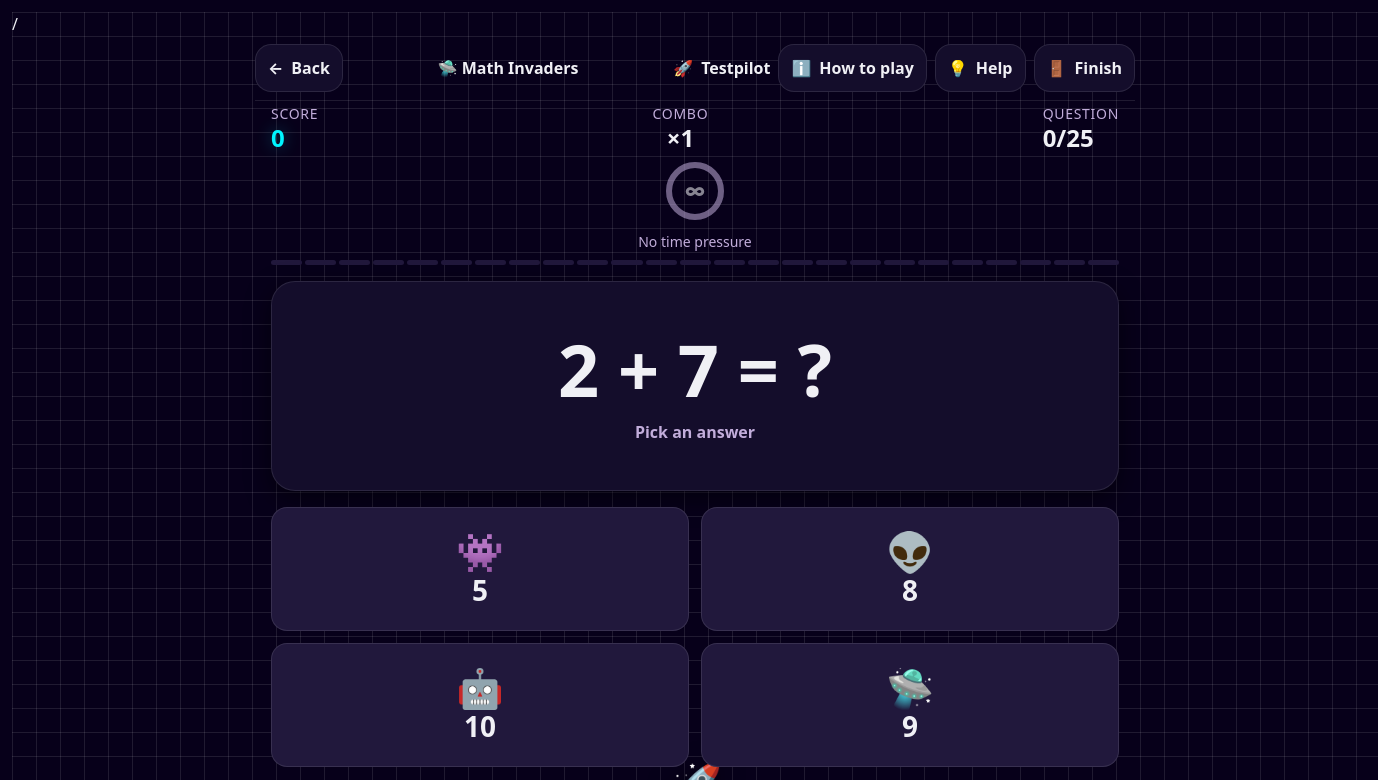
Test: GamePage › scores a right answer, advances after feedback, and grows the combo
Click the button "🛸 9".
click(910, 705)  # box [701,643,1119,767]
Wait 650 ms
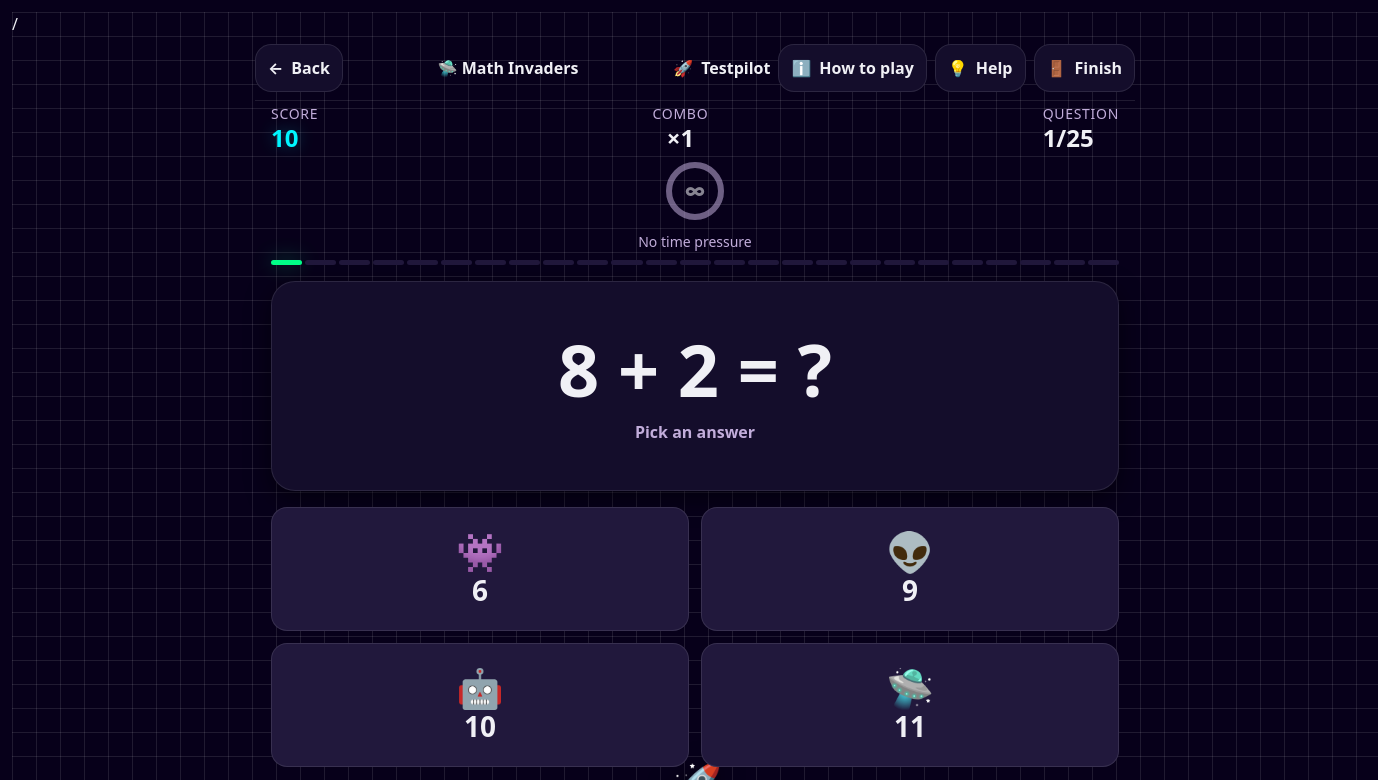
Expected: the text "Correct! +10" is shown, [635,420,755,444]
Now the text "1/25" is shown, box [1043,121,1094,154]
Click the button "🤖 10".
click(480, 705)  # box [271,643,689,767]
Wait 650 ms
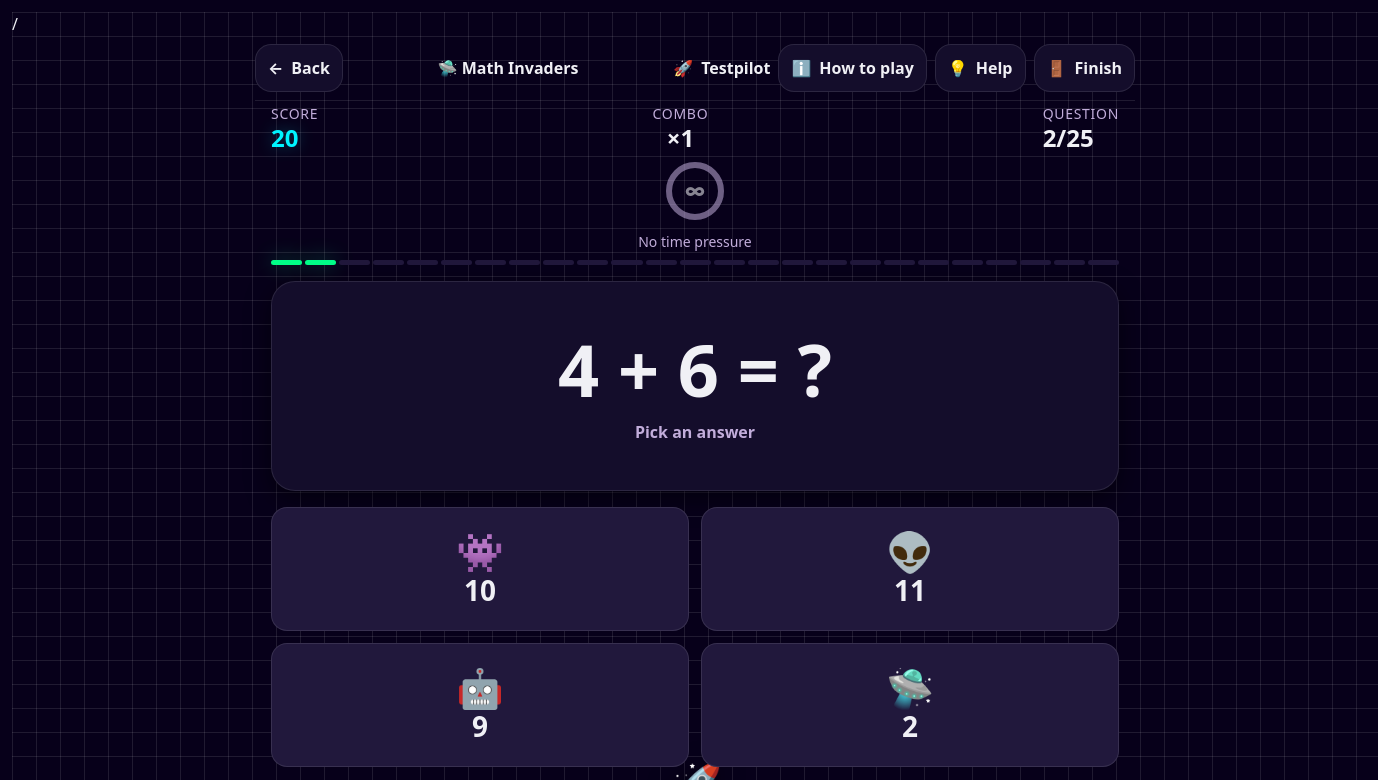
Click the button "👾 10".
click(480, 569)  # box [271,507,689,631]
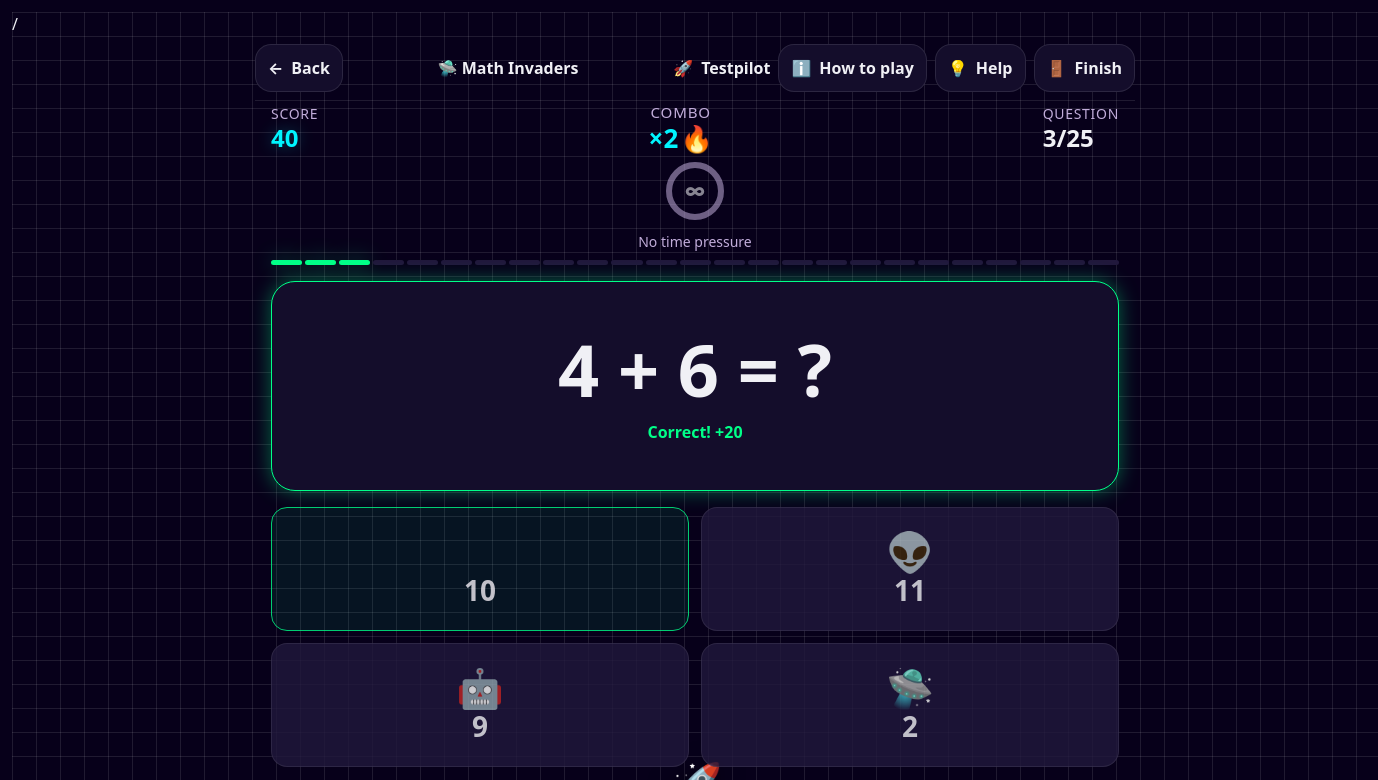
Now the text "×2" is shown, box [648,124,712,153]
